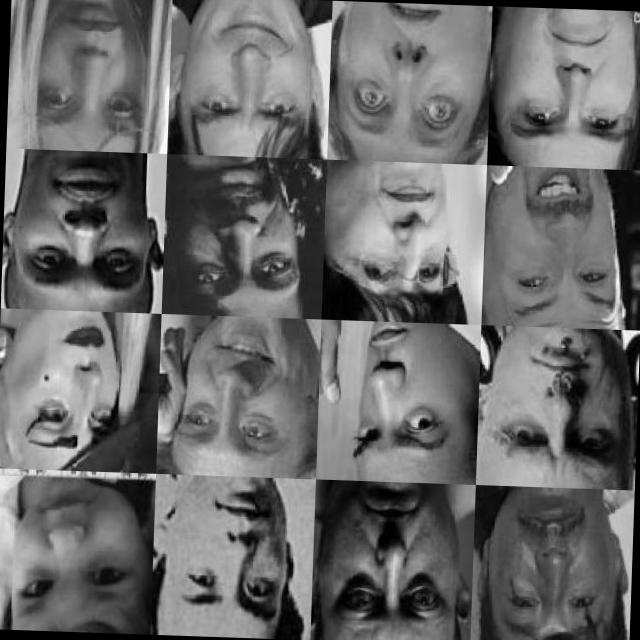angry: (345, 330, 465, 472), (494, 344, 620, 464)
fear: (514, 178, 618, 317), (358, 5, 473, 123)
happy: (178, 332, 296, 454), (200, 16, 300, 127)
neutral: (18, 486, 138, 612), (43, 1, 144, 138), (178, 490, 282, 620), (356, 168, 462, 292), (340, 510, 446, 629), (197, 162, 302, 280), (37, 170, 142, 276)
sad: (24, 323, 136, 452), (504, 510, 604, 638), (513, 32, 614, 146)
